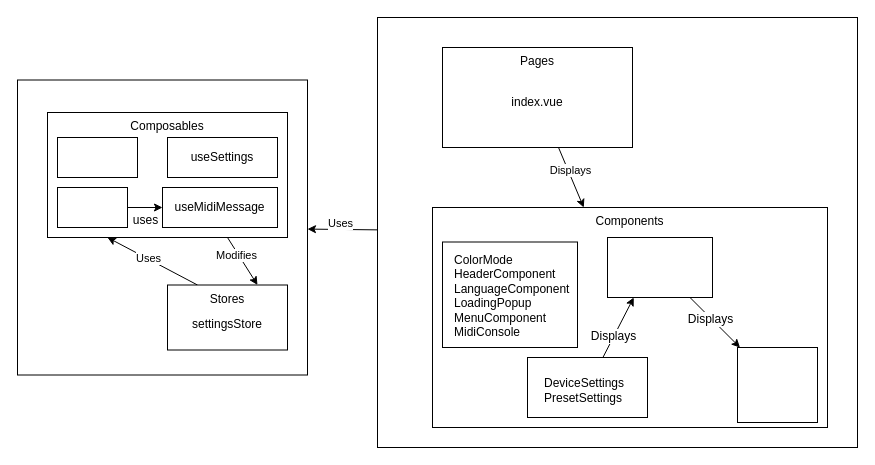
Image size: 875x465. Some labels were removed from this diagram. The centre of each missing label's shape, as x and y in pixels:
"ColorField KnobField NoteField" goes at point 777,384.
"FieldComponent" goes at point 659,267.
"json" goes at point 97,157.
"useMidi" goes at point 92,207.
